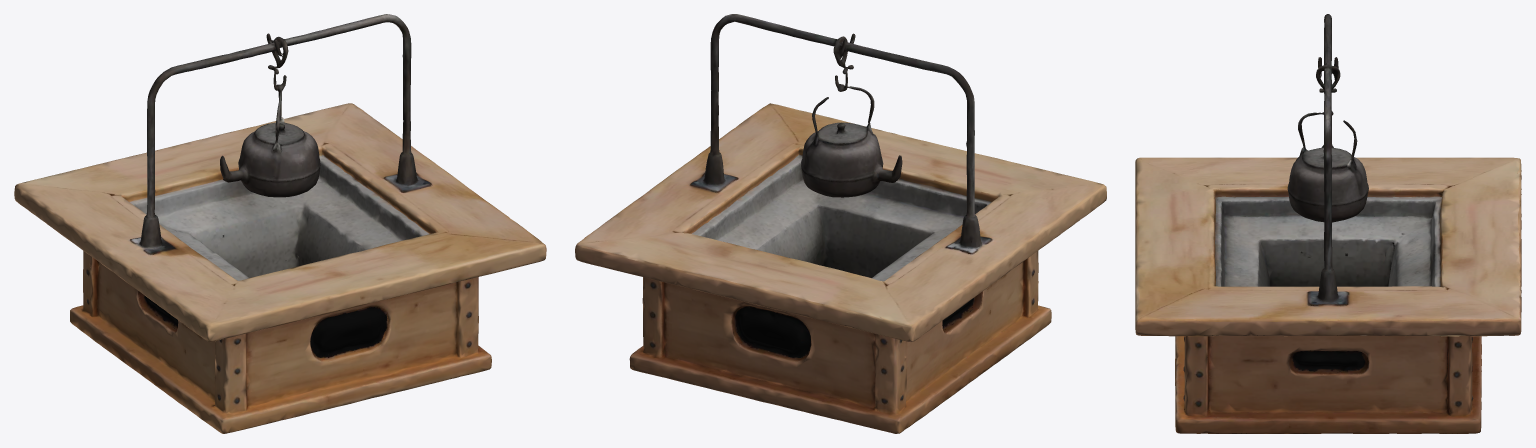
The picture shows the model from 3 angles, left to right: view 1: azimuth 30°, elevation 25°; view 2: azimuth 150°, elevation 25°; view 3: azimuth 270°, elevation 25°; orthographic projection.
Parts seen in each view (by area): view 1: Mesh_0; view 2: Mesh_0; view 3: Mesh_0.
Part boxes in pixels (x1,y1,x2,y2): Mesh_0: [14, 14, 546, 433]; Mesh_0: [575, 14, 1106, 433]; Mesh_0: [1135, 14, 1521, 433].
Size of the model in its own units: 0.4778 by 0.42 by 0.4768.
1 material, 1 textured.
